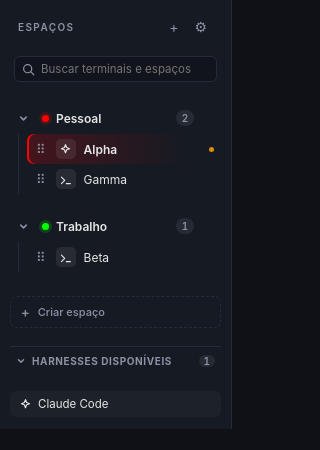
Test: Sidebar › duplo clique renomeia
Double-click the text "Beta" at (96, 257), box [84,250,109,264]
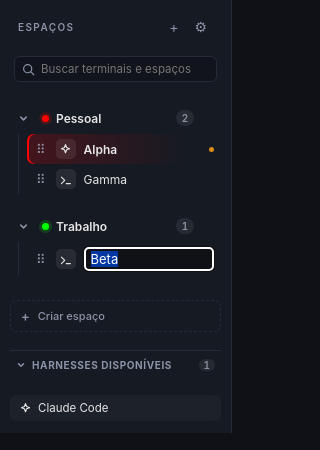
Replace the text in the field showing "Beta" with "Delta" at (149, 259), box [84,247,214,271]
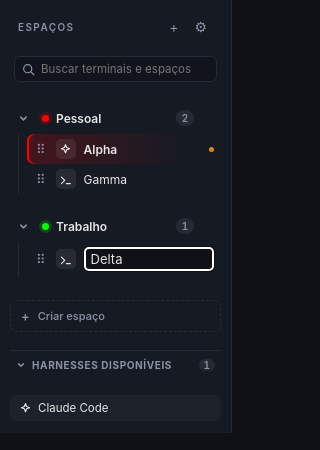
Press Enter in the field showing "Beta", box [84,247,214,271]
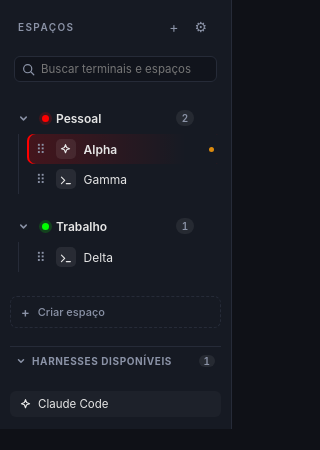
expect the text "Delta" is shown: met, box [84,250,113,264]
